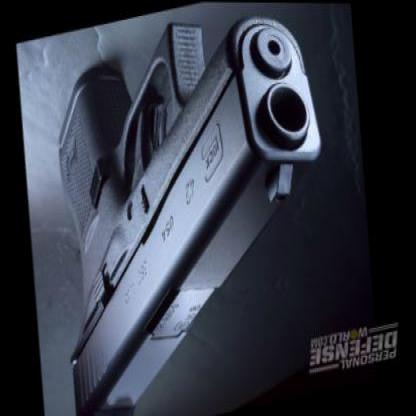pistol: (29, 0, 357, 412)
